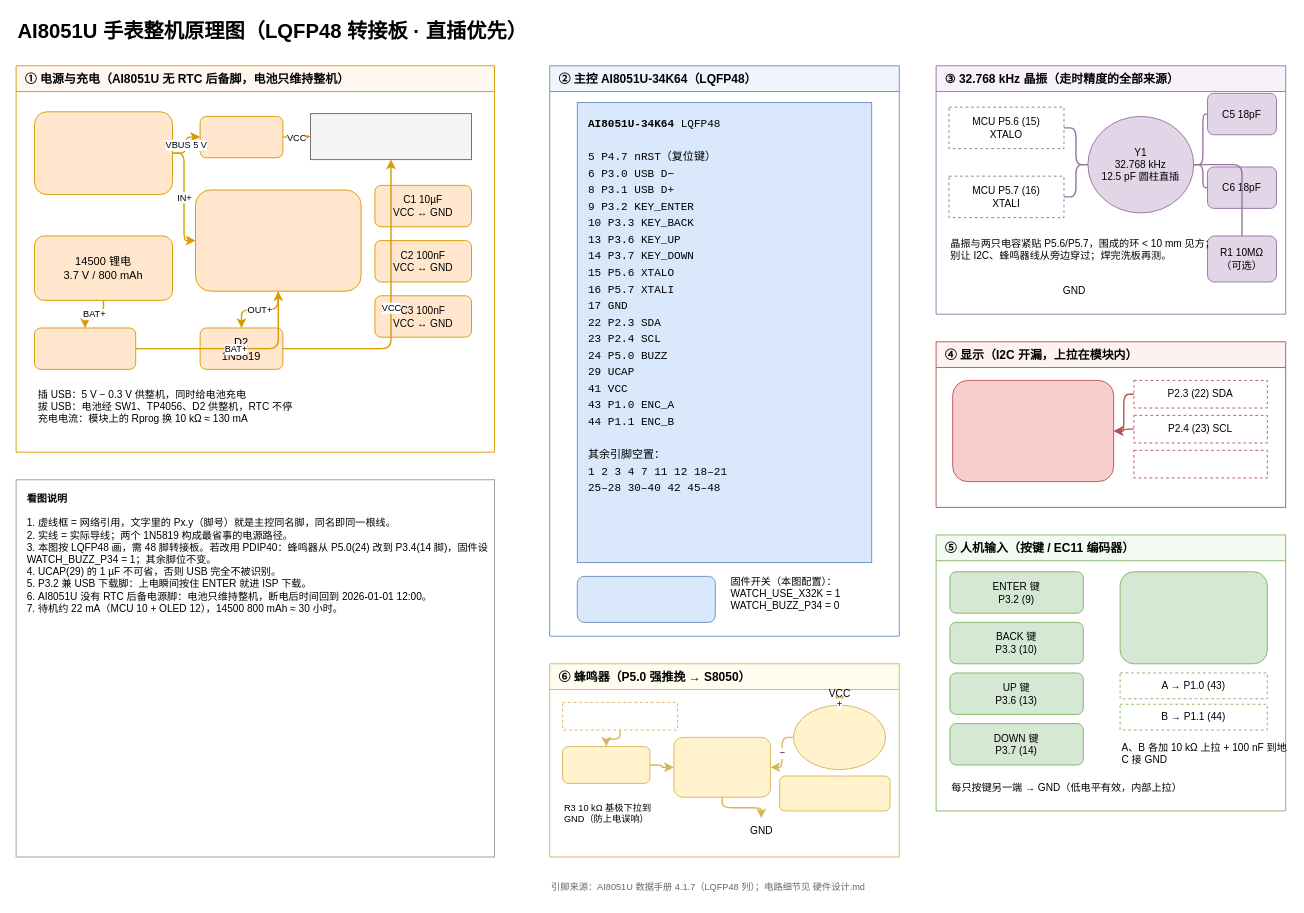
The diagram is 1304 pixels wide and 913 high, and some of its shapes have lost their labels. The centre of each missing label's shape, as x and y in pixels:
"C4 1µF UCAP(29) ↔ GND 不可省" goes at (645,598).
"D1 1N5819" goes at (241,136).
"D3 1N4148（反峰，电磁式必装）" goes at (834,793).
"EC11 编码器 A / B / C(GND) + 按压开关" goes at (1193,617).
"MCU P5.0 (24)" goes at (620,716).
"Micro-USB 直插母座 VBUS · D− · D+ · GND" goes at (103,153).
"OLED 0.96 英寸 SSD1306 128×64 I2C 地址 0x78" goes at (1033,431).
"Q1 S8050 TO-92 B / C / E" goes at (721,766).
"R2 1kΩ" goes at (606,764).
"SW1 拨动 1P2T" goes at (85,348).
"TP4056 模块（带 DW01 保护） IN+ / IN− BAT+ / BAT− OUT+ / OUT−" goes at (278,240).
"VCC 3.4–4.7 V MCU VCC(41) + OLED VCC" goes at (391,136).
"VCC · GND" goes at (1200,463).
"无源蜂鸣器 2–4 kHz" goes at (839,737).
